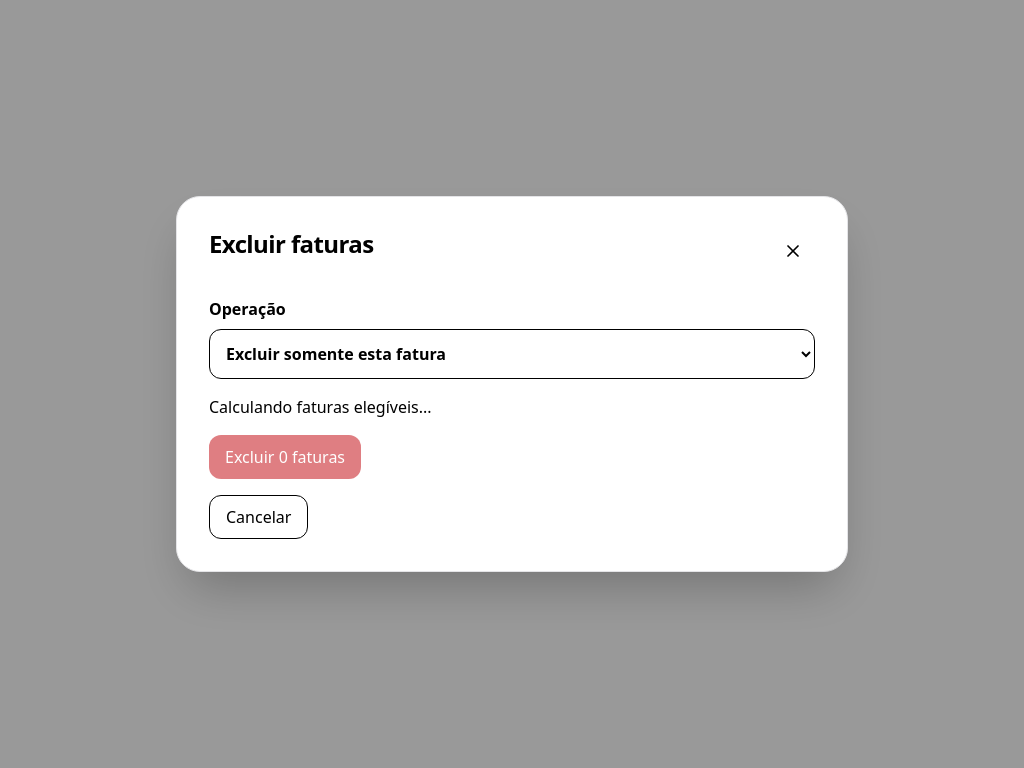
resposta de seleção antiga não habilita exclusão de parâmetros novos
Select "Excluir toda a recorrência" in the dropdown named "Operação de exclusão" at (512,354), box [209,329,815,379]
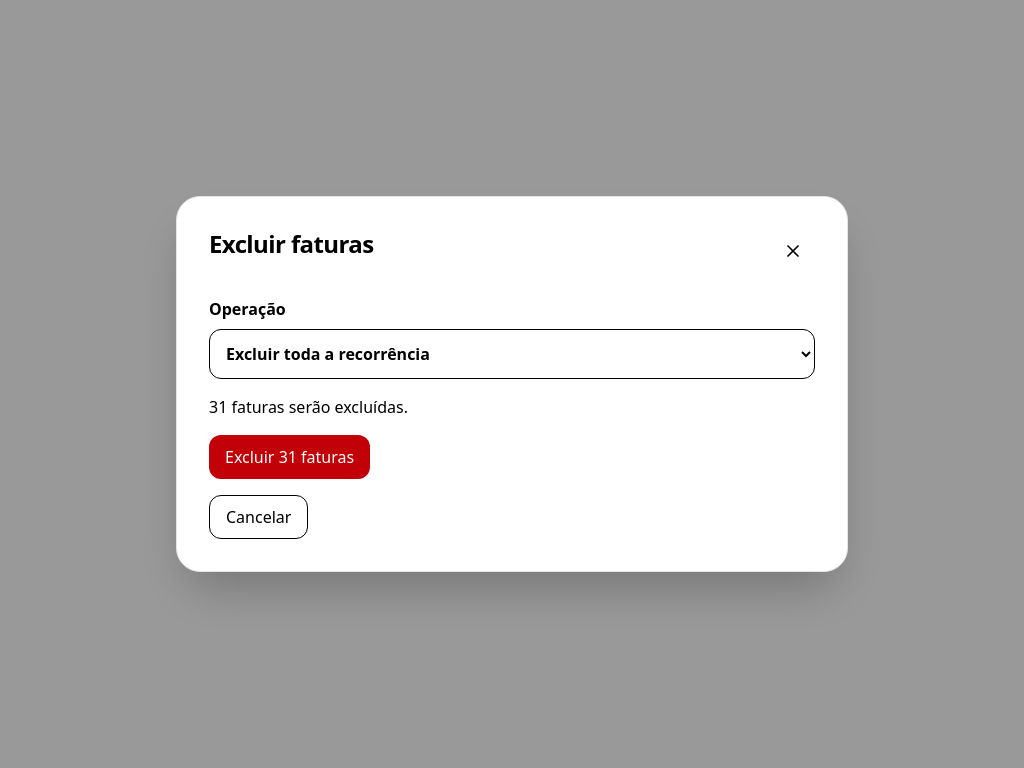
Expected: the text "31 faturas serão excluídas." is shown, [209,396,408,418]
Expected: the button "Excluir 31 faturas" is enabled, [209,435,370,479]
